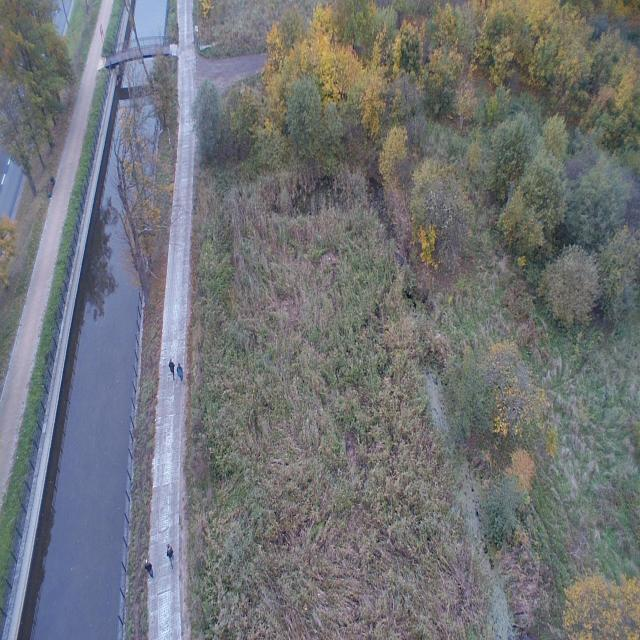p3rson: (144, 560, 154, 580), (167, 544, 174, 570), (168, 359, 176, 381), (177, 363, 183, 382)
